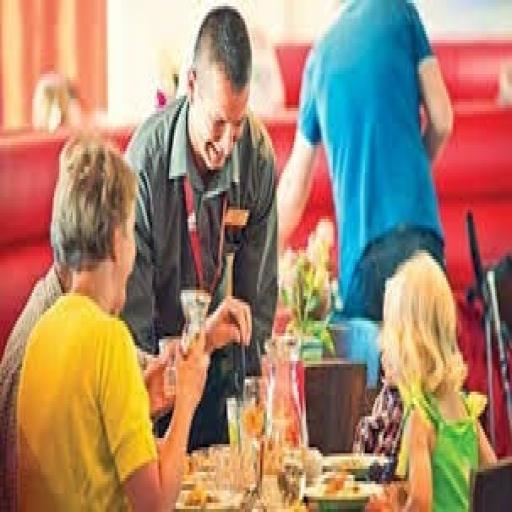eating: (14, 129, 214, 509), (120, 3, 280, 450), (363, 247, 500, 509)
